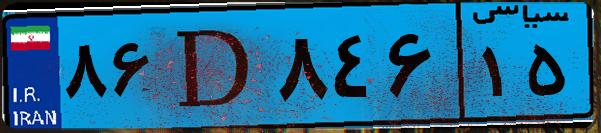1: (475, 38, 525, 113)
4: (330, 28, 385, 110)
5: (525, 38, 570, 115)
6: (385, 28, 445, 110), (110, 28, 158, 98)
8: (270, 28, 330, 110), (57, 26, 110, 100)
D: (158, 12, 270, 120)
